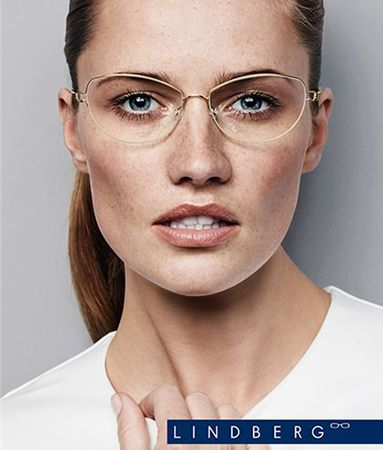llen: (209, 74, 306, 141)
rlen: (85, 74, 183, 141)
